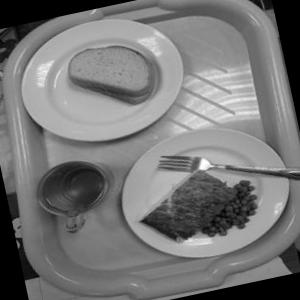bread: (51, 28, 167, 119)
casserole: (122, 153, 272, 259)
tea: (22, 143, 126, 244)
